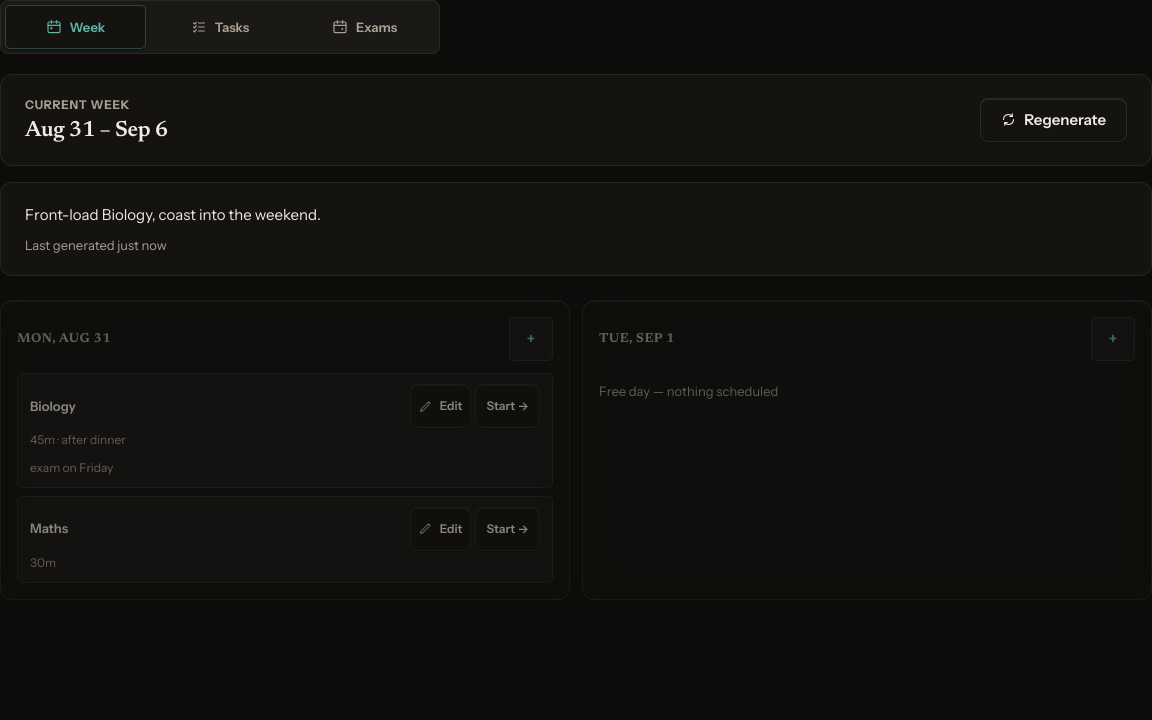
Test case: PlanView › with a plan › regenerates when confirmed
What coordinates should you click on to do the following:
click the button "Regenerate"
I would click on:
 (1054, 120)
Its box is [980,98,1127,142].
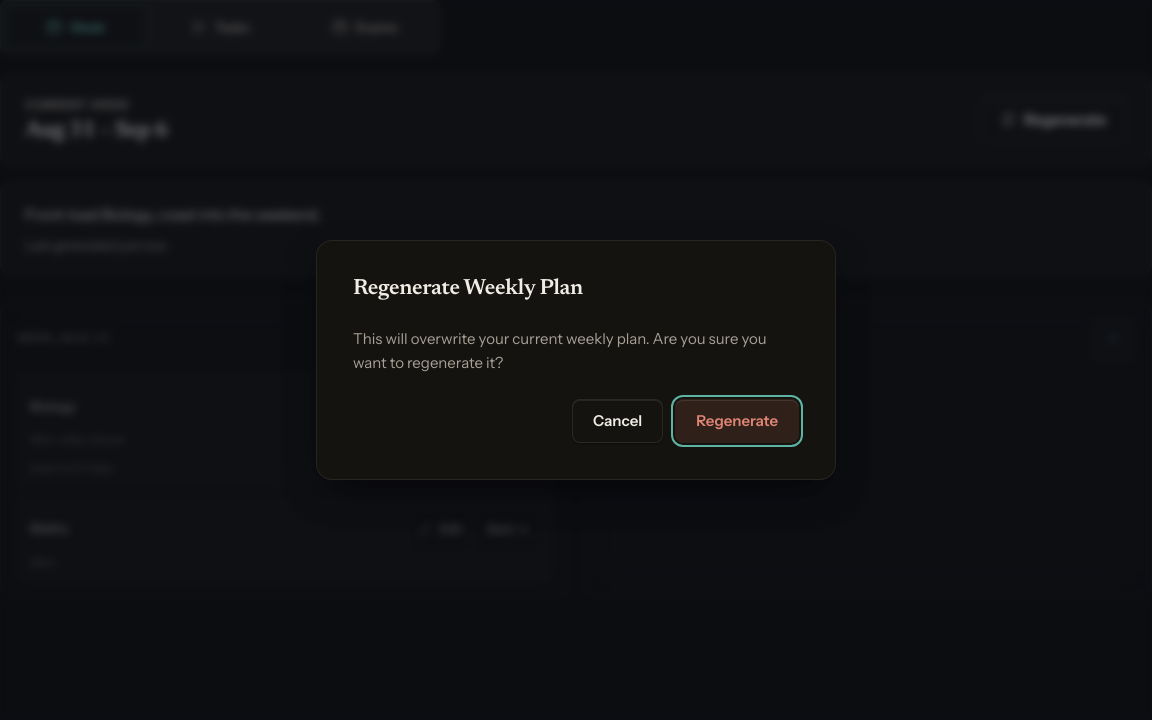
What coordinates should you click on to do the following:
click the button "Regenerate"
I would click on:
 (737, 421)
Its box is [675,399,799,443].
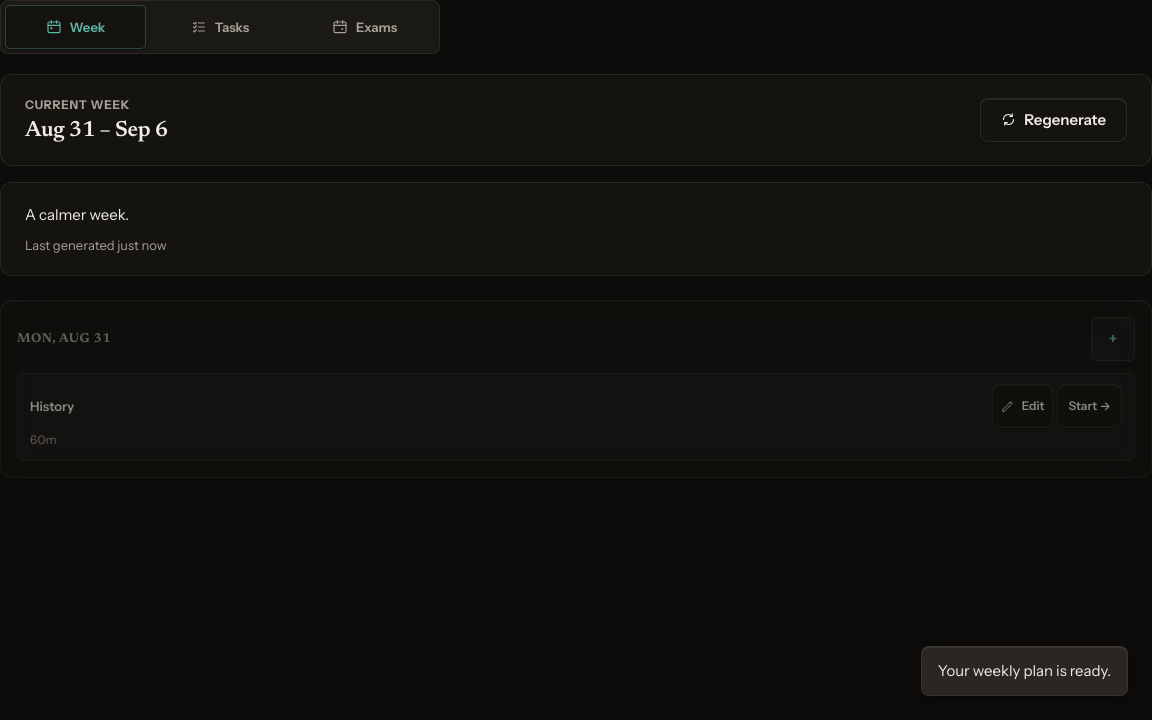
Result: the text "A calmer week." is shown at [25,205,129,224]
Result: the text "History" is shown at [30,396,74,417]
